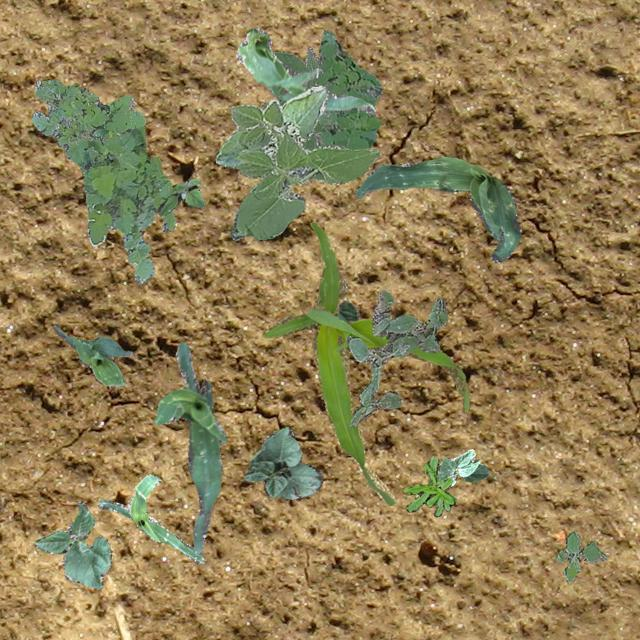crop: (262, 220, 469, 504), (214, 86, 378, 240), (353, 156, 520, 262), (152, 340, 225, 552), (236, 28, 374, 114), (96, 473, 202, 562), (260, 46, 340, 150), (34, 499, 110, 588), (244, 426, 322, 500), (52, 322, 132, 386), (436, 448, 488, 484), (336, 278, 358, 322)
weed: (78, 124, 174, 284), (344, 290, 446, 428), (310, 28, 382, 180), (30, 78, 144, 168), (402, 456, 454, 516), (556, 530, 606, 582), (156, 178, 204, 215)
